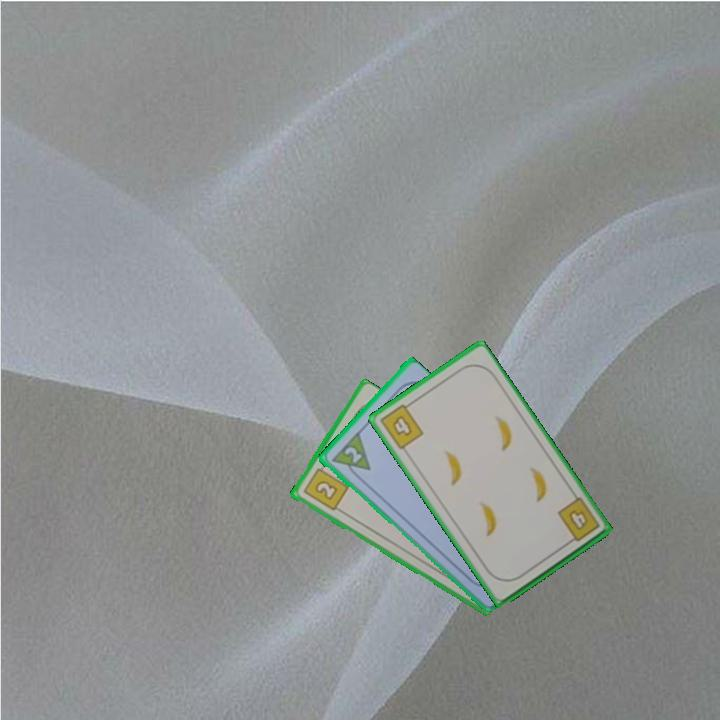2b: (299, 460, 351, 514)
2p: (327, 429, 373, 483)
4b: (376, 398, 426, 452), (553, 494, 602, 548)
